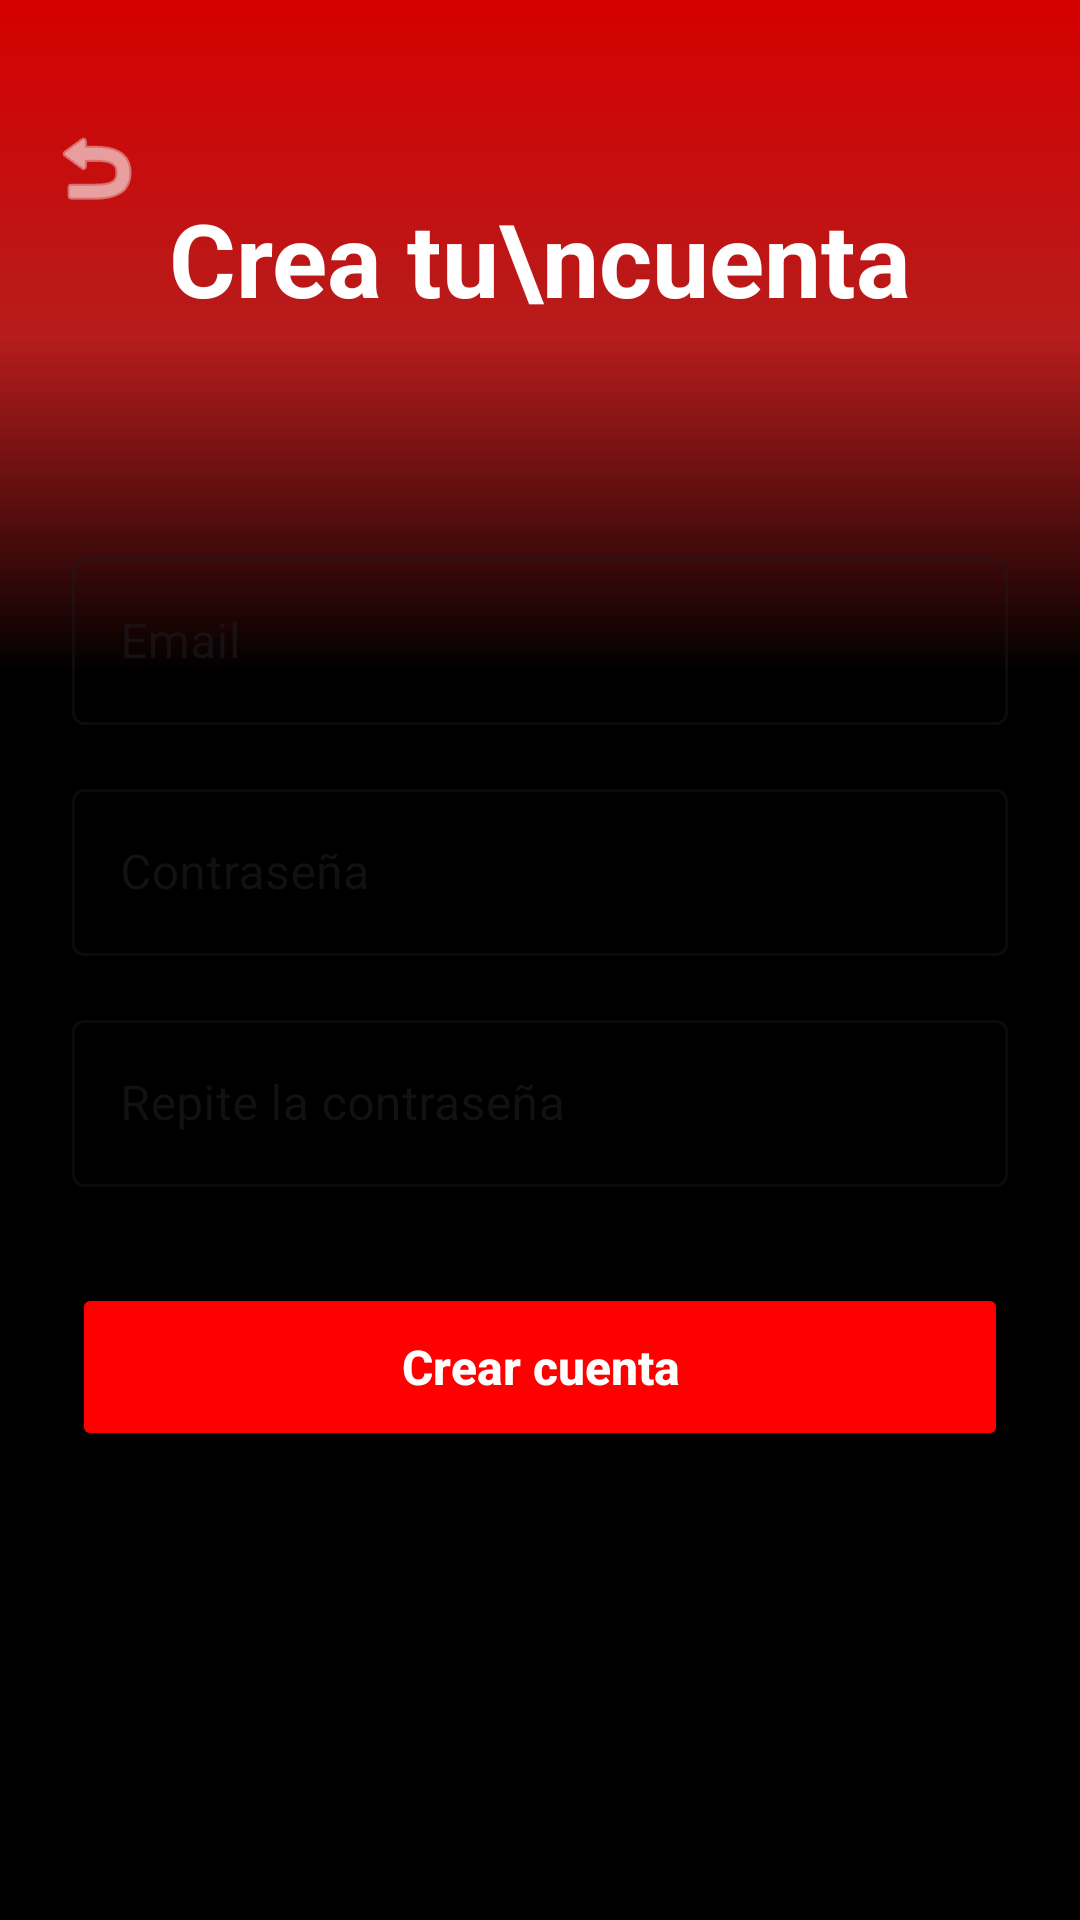

Named icons in this screenshot (1080 × 1920) and their bounding boxes, (x1, y1, x2, y2):
Volver: (63, 137, 132, 200)
